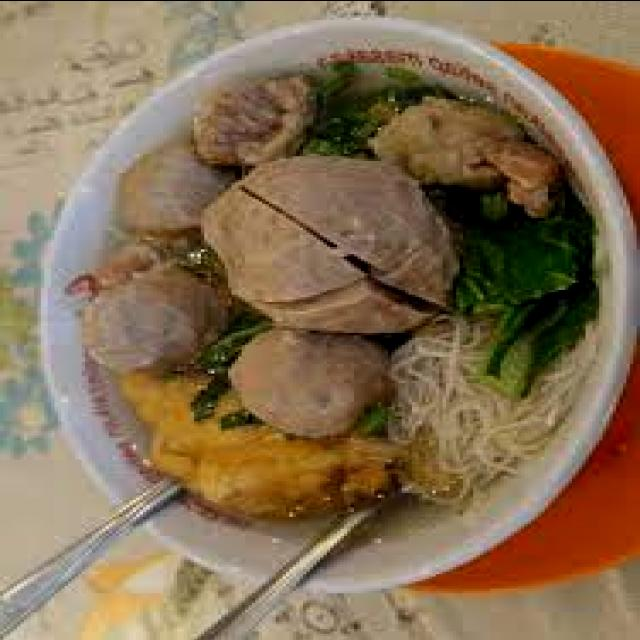bakso: (71, 55, 596, 525)
